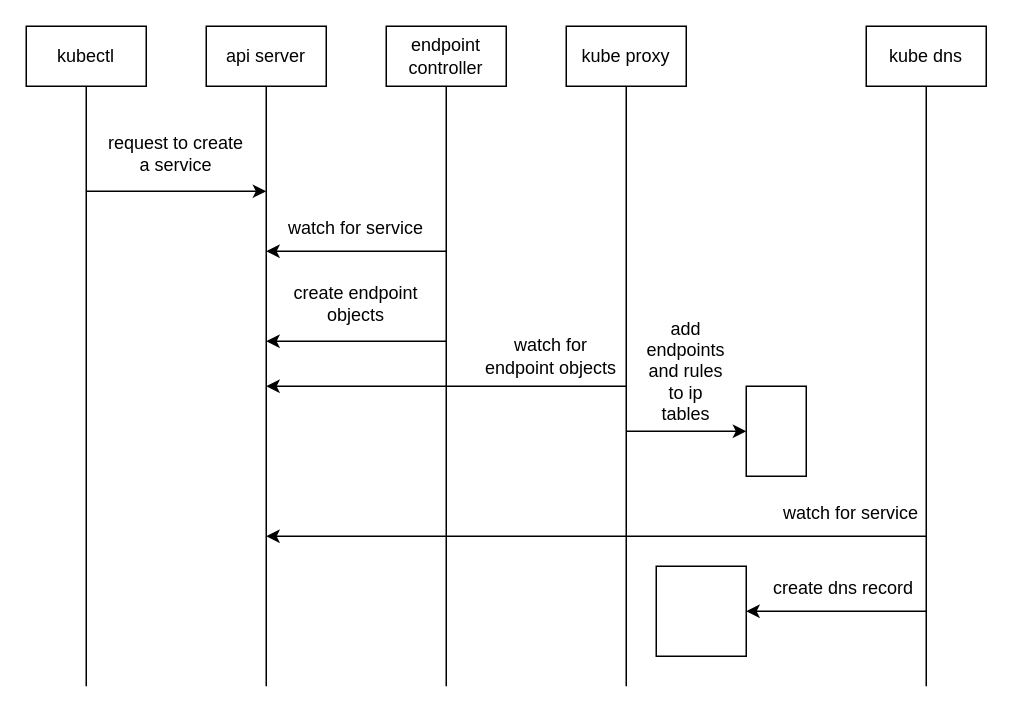
Image size: 1013x714. Some labels were removed from this diagram. The centre of each missing label's shape, as x and y in pixels:
dns server (skydns): pixel 700 610
ip table: pixel 775 430
